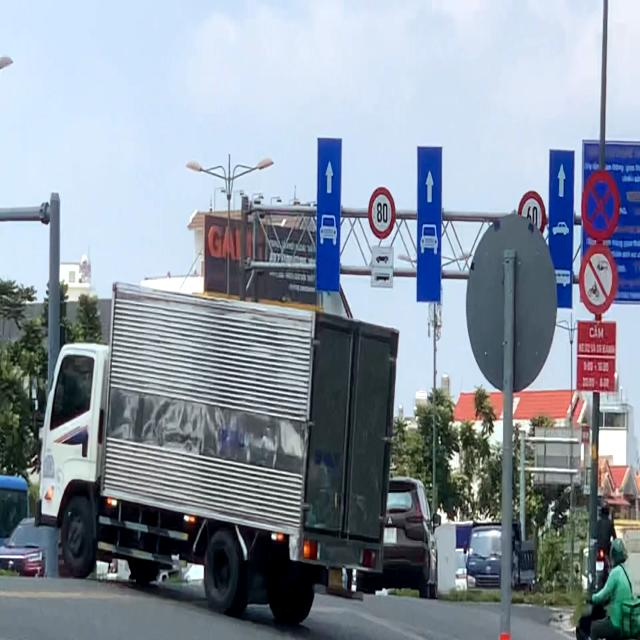P.127: (367, 186, 397, 241)
P.130: (580, 169, 622, 243)
